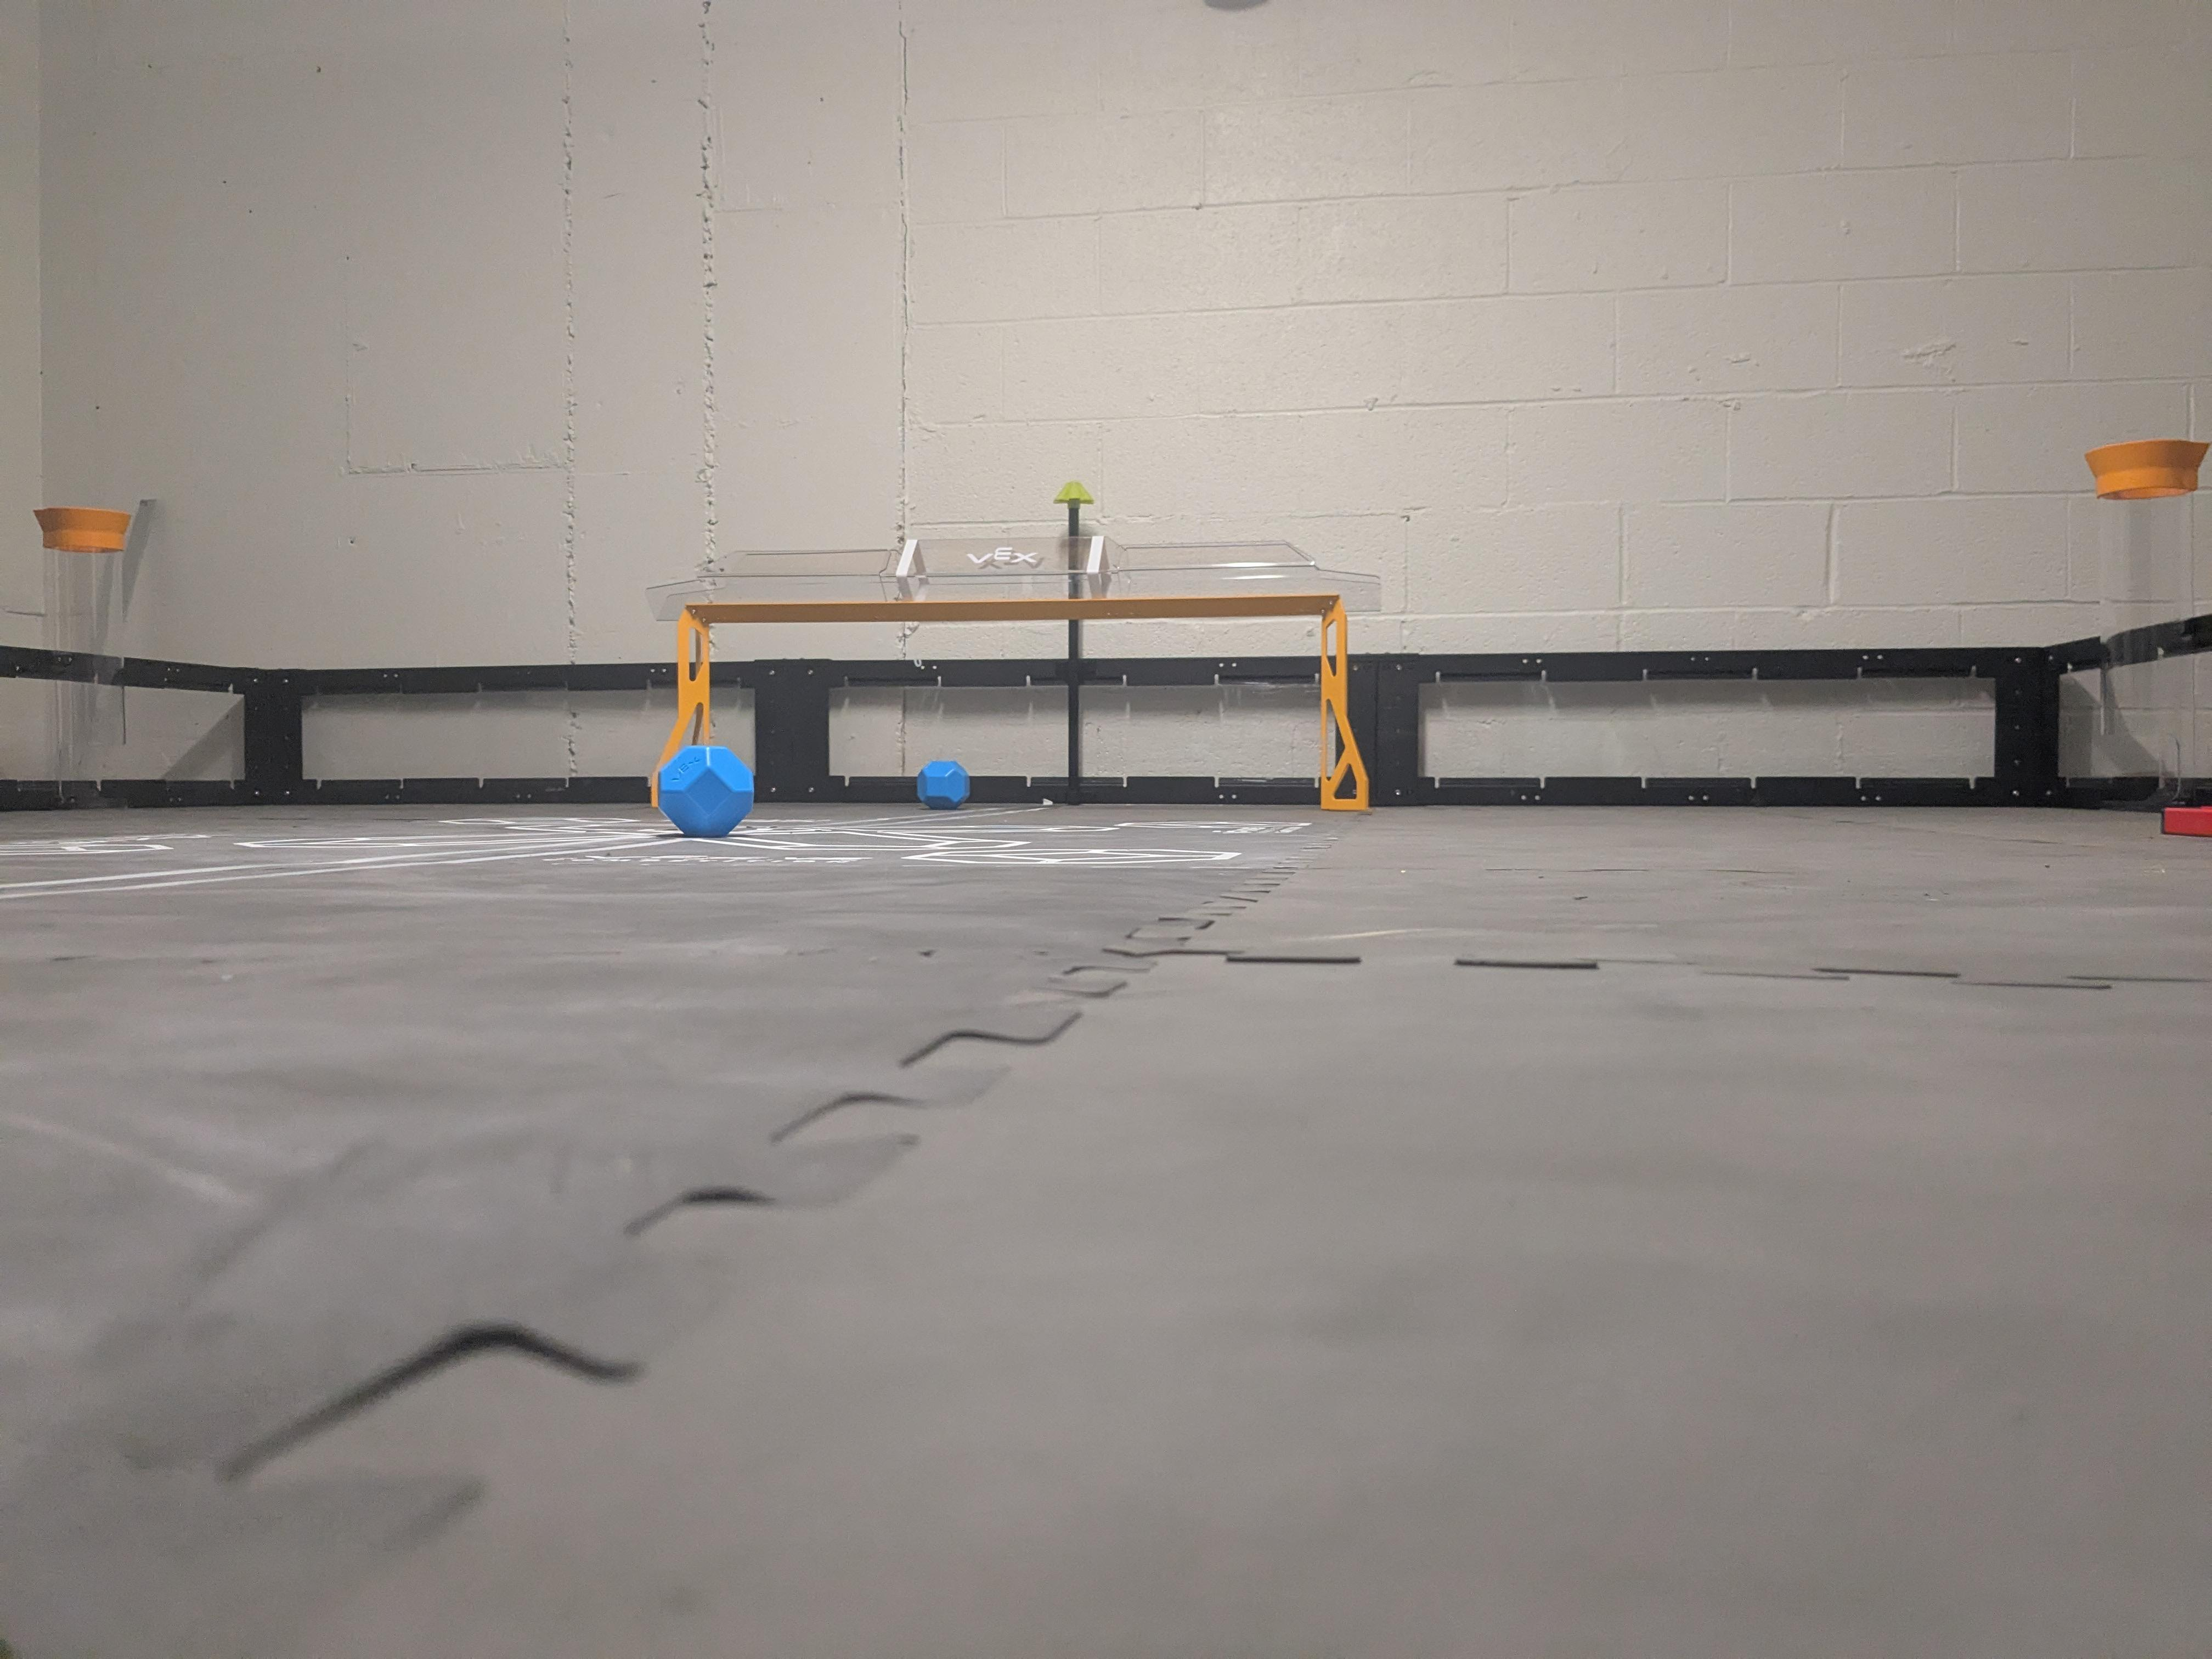Vex-Pieces-BLUE: (657, 749, 756, 836), (916, 762, 968, 809)
